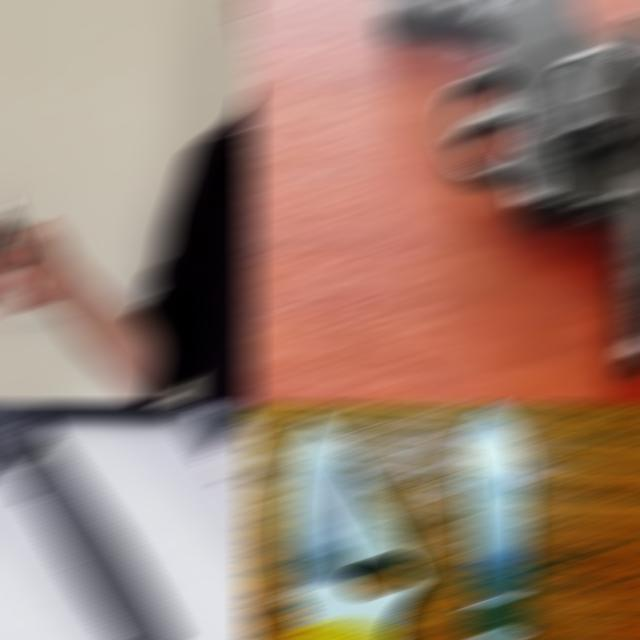Knife: (0, 405, 183, 638)
Knife_Handle: (0, 44, 68, 316)
